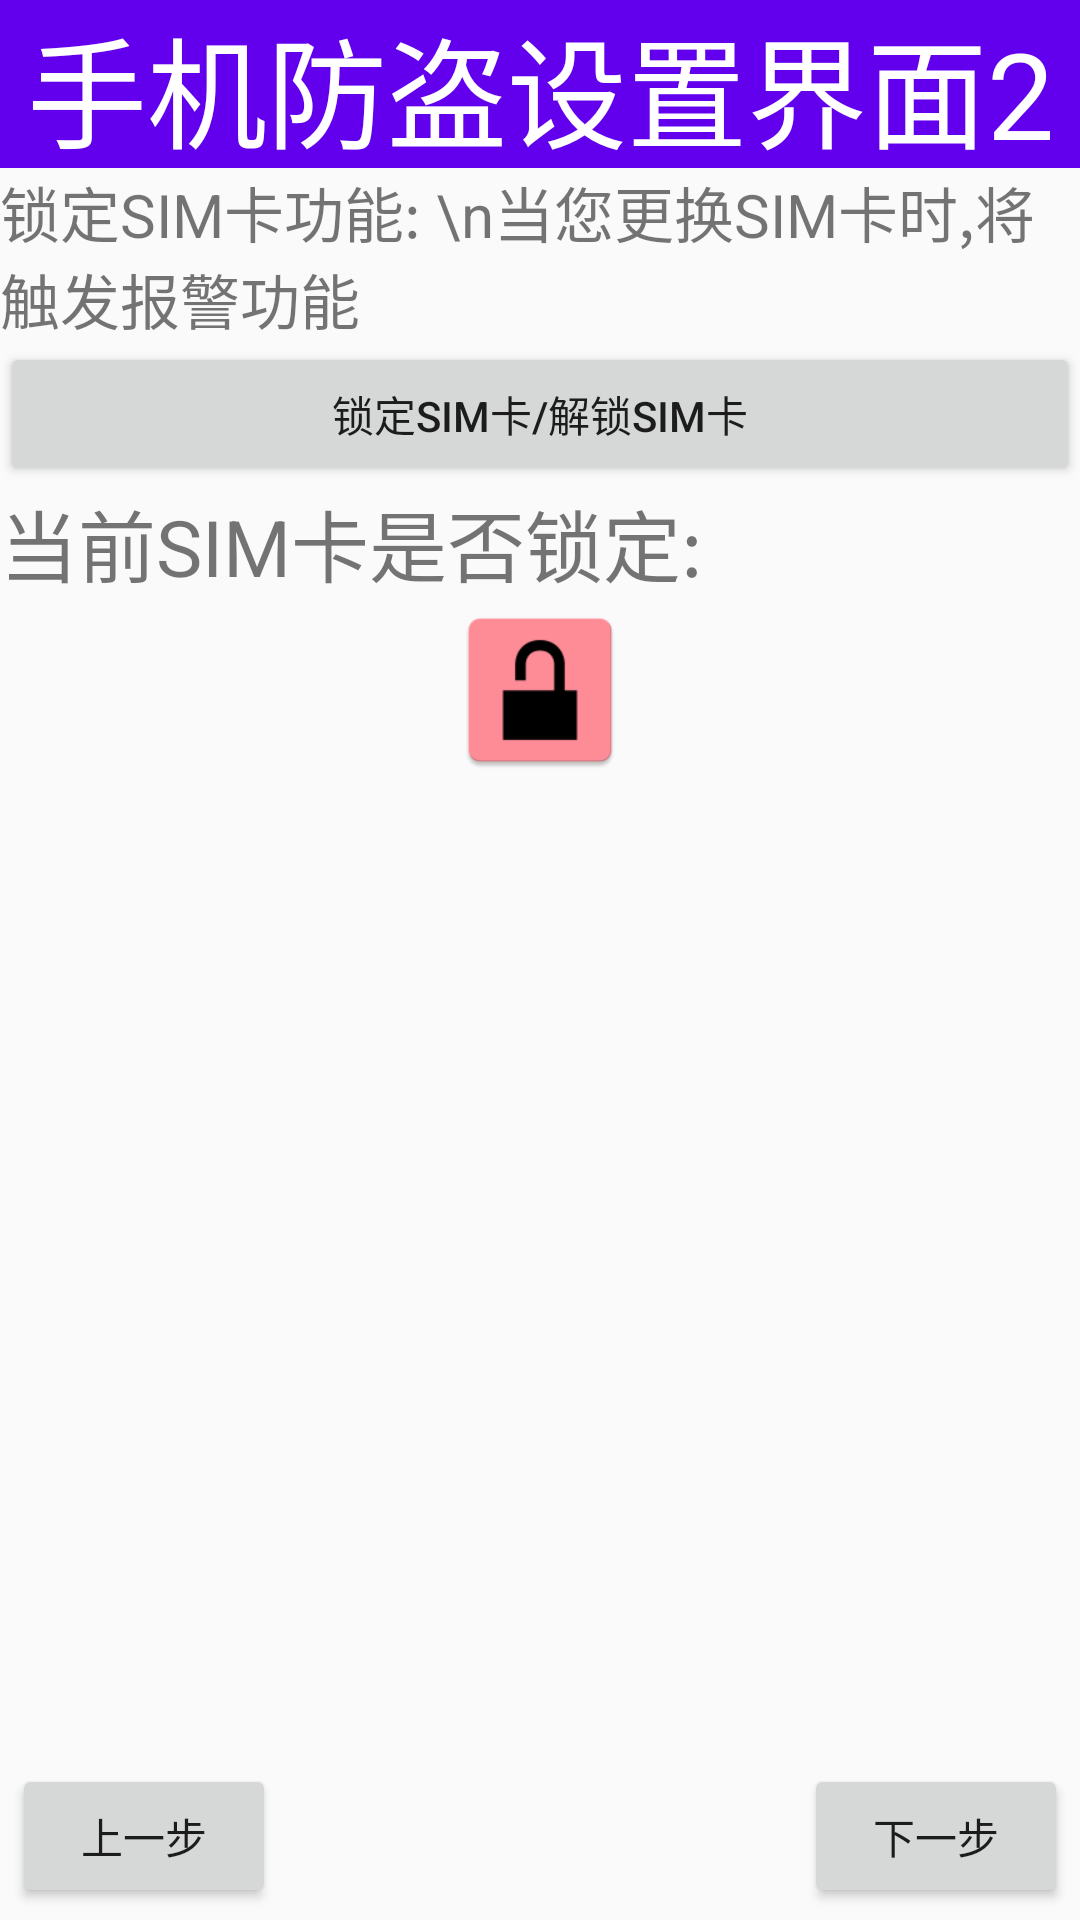

Screen size 1080×1920. Icon name, then its box in pixels as (x1, y1, x2, y2):
unlock: (468, 618, 613, 766)
